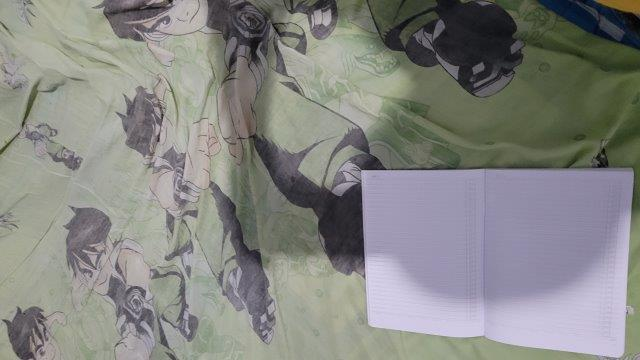kertas: (362, 167, 633, 358)
